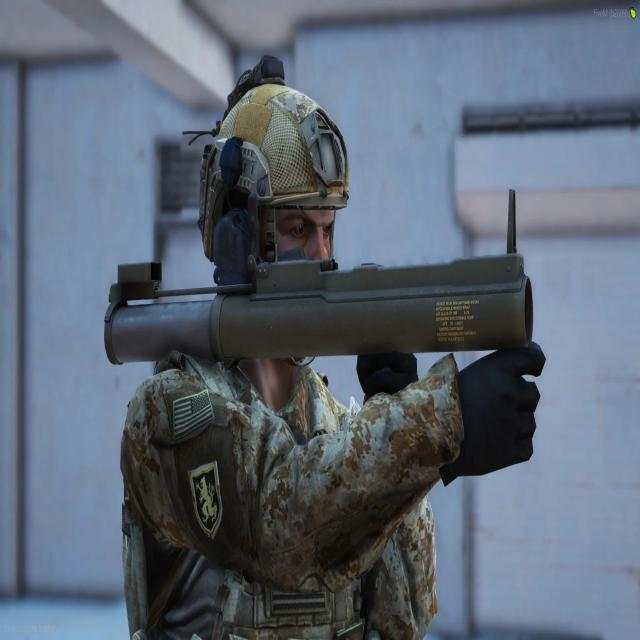bazooka: (93, 224, 577, 419)
